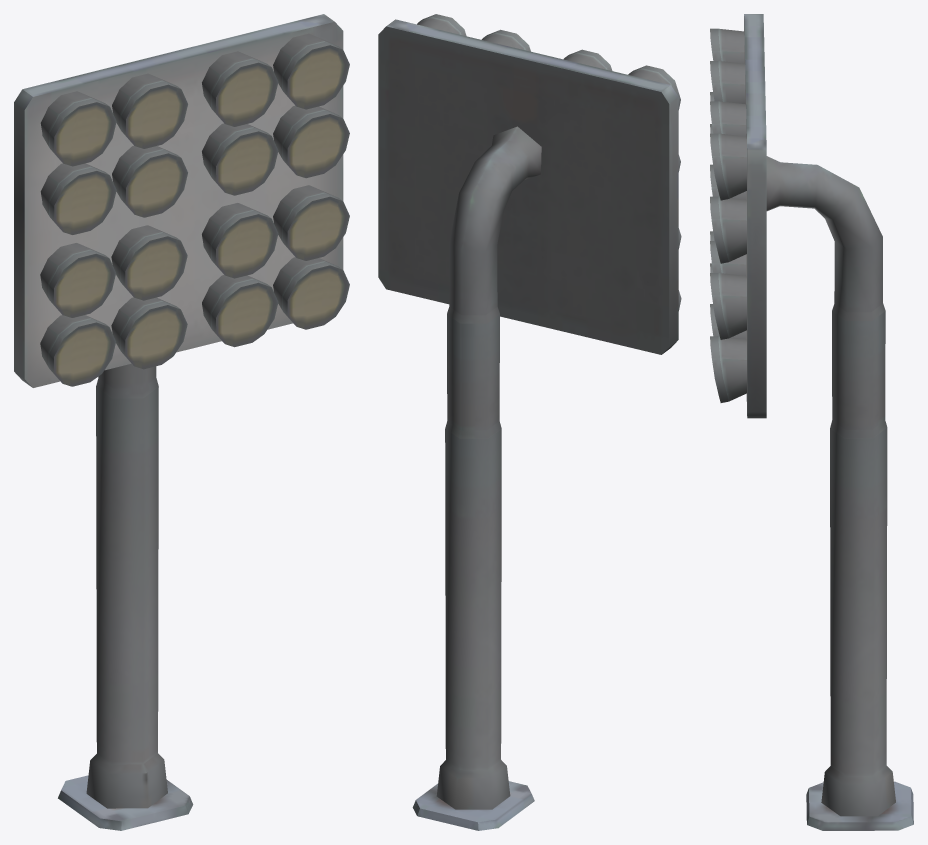
The model's file is pref_sm_city_bornbus05_snow_lv3.fbx.
The picture shows the model from 3 angles, left to right: view 1: azimuth 30°, elevation 25°; view 2: azimuth 150°, elevation 25°; view 3: azimuth 270°, elevation 25°; orthographic projection. The views are drawn at different scales.
Visible parts, largest first — view 1: pref_sm_city_bornbus05_snow_lv3; view 2: pref_sm_city_bornbus05_snow_lv3; view 3: pref_sm_city_bornbus05_snow_lv3.
Boxes of the visible parts, <box> form: pref_sm_city_bornbus05_snow_lv3: <box>14,14,349,830</box>; pref_sm_city_bornbus05_snow_lv3: <box>378,14,681,830</box>; pref_sm_city_bornbus05_snow_lv3: <box>710,14,913,830</box>.
Size of the model in its own units: 1.91 by 4.5 by 1.15.
